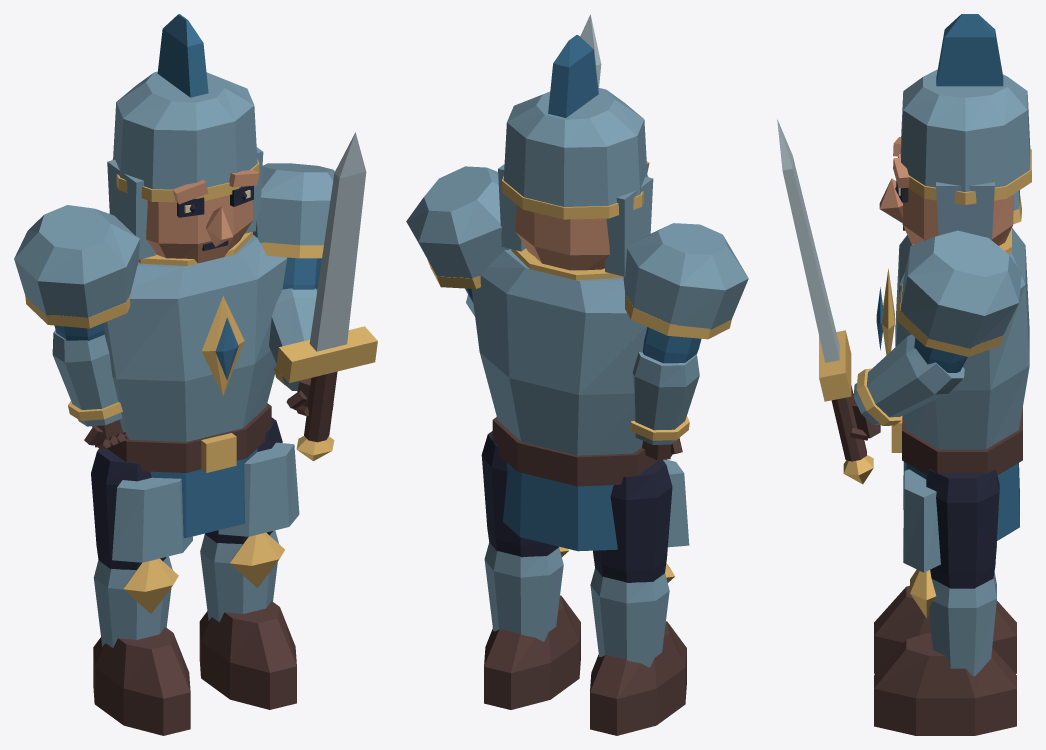
The model's file is warrior.obj.
3 views of the same model, side by side, from view 1: azimuth 30°, elevation 25°; view 2: azimuth 150°, elevation 25°; view 3: azimuth 270°, elevation 25° (orthographic). The views are drawn at different scales.
Visible parts, largest first — view 1: warrior_21, warrior_03, warrior_19, warrior_24, warrior_29, warrior_08, warrior_00, warrior_13, warrior_33, warrior_28, warrior_34, warrior_16 (+22 smaller); view 2: warrior_21, warrior_03, warrior_19, warrior_13, warrior_29, warrior_24, warrior_34, warrior_32, warrior_25, warrior_30, warrior_35, warrior_00 (+10 smaller); view 3: warrior_03, warrior_13, warrior_24, warrior_21, warrior_27, warrior_25, warrior_10, warrior_05, warrior_29, warrior_08, warrior_35, warrior_00 (+11 smaller).
Part boxes in pixels (x1,y1,x2,y2): warrior_21: (104,235,287,441); warrior_03: (107,71,263,259); warrior_19: (14,205,139,317); warrior_24: (199,601,296,709); warrior_29: (93,627,190,735); warrior_08: (309,132,366,351); warrior_00: (146,170,259,263); warrior_13: (253,163,334,245); warrior_33: (112,477,192,562); warrior_28: (218,442,299,536); warrior_34: (150,448,257,537); warrior_16: (52,330,122,426); warrior_21: (471,249,647,455); warrior_03: (498,87,653,276); warrior_19: (623,223,748,329); warrior_13: (406,166,509,278); warrior_29: (590,621,686,735); warrior_24: (484,595,580,709); warrior_34: (503,462,617,551); warrior_32: (593,460,672,582); warrior_25: (484,542,563,641); warrior_30: (590,568,669,667); warrior_35: (492,417,658,486); warrior_00: (515,161,649,270); warrior_03: (900,69,1030,240); warrior_13: (900,230,1021,348); warrior_24: (874,632,1016,735); warrior_21: (895,228,1029,449); warrior_27: (926,469,999,588); warrior_25: (929,572,996,676); warrior_10: (853,334,964,425); warrior_05: (936,14,1003,86); warrior_29: (874,585,1016,673); warrior_08: (777,119,839,362); warrior_35: (902,407,1022,475); warrior_00: (879,137,1013,245).
Bounding box in the file's own units: 1.27 × 2.52 × 0.8571.
